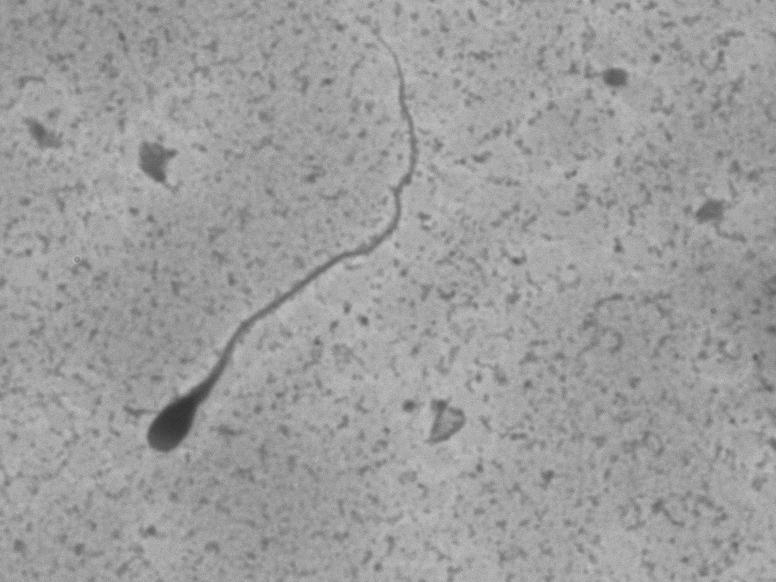Abnormal: (137, 25, 459, 495)
